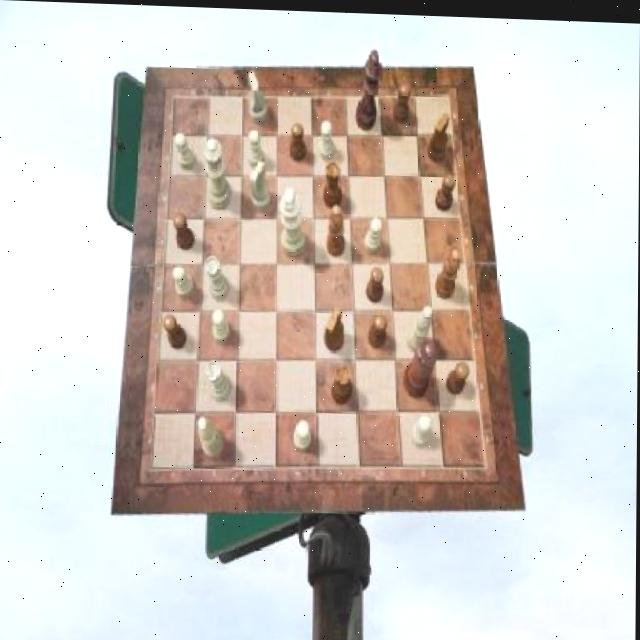bishop: (435, 245, 460, 296), (327, 203, 346, 256)
black-bishop: (355, 47, 383, 129)
black-king: (427, 109, 450, 161), (324, 303, 344, 349)
black-knight: (171, 211, 194, 248), (164, 313, 188, 348), (434, 170, 455, 208), (445, 358, 468, 392), (368, 311, 387, 346), (393, 81, 410, 120), (291, 121, 307, 160), (366, 265, 383, 301)
black-pawn: (404, 335, 440, 396)
black-queen: (323, 159, 342, 205), (332, 362, 353, 403)
black-rook: (406, 303, 432, 350), (197, 415, 224, 457)
white-bishop: (279, 185, 306, 255)
white-king: (250, 158, 272, 208), (247, 69, 267, 120)
white-knight: (174, 131, 195, 169), (171, 265, 194, 298), (411, 411, 432, 445), (247, 127, 264, 168), (364, 215, 382, 252), (319, 118, 335, 159), (213, 308, 230, 343), (294, 418, 311, 449)
white-pawn: (202, 136, 230, 208)
white-queen: (206, 358, 232, 401), (205, 254, 229, 300)
